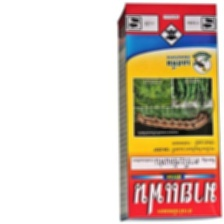carton: (114, 1, 223, 223)
